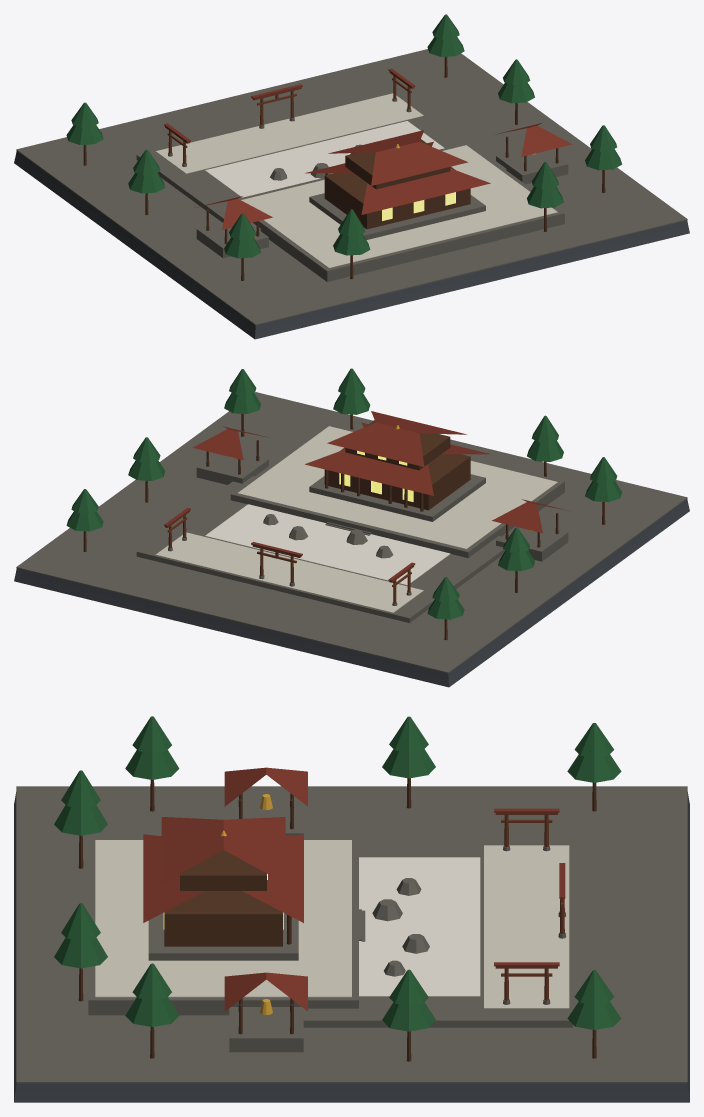
Rendered from lm_28_chua_linh_quy_phap_an.glb.
The picture shows the model from 3 angles, top to bottom: view 1: azimuth 30°, elevation 25°; view 2: azimuth 150°, elevation 25°; view 3: azimuth 270°, elevation 25°; orthographic projection. The views are drawn at different scales.
Visible parts, largest first — view 1: Foundation_Plinth_Trim, LinhQuy_Cloud_Deck_Paving, LinhQuy_Stone_Terraces_And_Steps, Foundation_Skirt, LinhQuy_Mountain_Pine_Forest, LinhQuy_Zen_White_Pebble_Garden, QuanChieuDuong_Teak_Columns_And_Walls, QuanChieuDuong_Upper_Curved_Roof, QuanChieuDuong_Lower_Curved_Roof, LinhQuy_Three_Torii_Heaven_Gates, LinhQuy_Bell_Drum_Pavilion_Roof_E, LinhQuy_Bell_Drum_Pavilion_Roof_W; view 2: Foundation_Plinth_Trim, LinhQuy_Cloud_Deck_Paving, LinhQuy_Stone_Terraces_And_Steps, Foundation_Skirt, LinhQuy_Mountain_Pine_Forest, LinhQuy_Zen_White_Pebble_Garden, QuanChieuDuong_Teak_Columns_And_Walls, QuanChieuDuong_Upper_Curved_Roof, QuanChieuDuong_Lower_Curved_Roof, LinhQuy_Three_Torii_Heaven_Gates, LinhQuy_Bell_Drum_Pavilion_Roof_W, LinhQuy_Bell_Drum_Pavilion_Roof_E; view 3: Foundation_Plinth_Trim, LinhQuy_Cloud_Deck_Paving, LinhQuy_Stone_Terraces_And_Steps, LinhQuy_Mountain_Pine_Forest, Foundation_Skirt, LinhQuy_Zen_White_Pebble_Garden, QuanChieuDuong_Teak_Columns_And_Walls, QuanChieuDuong_Upper_Curved_Roof, QuanChieuDuong_Lower_Curved_Roof, LinhQuy_Bell_Drum_Pavilion_Roof_E, LinhQuy_Bell_Drum_Pavilion_Roof_W, LinhQuy_Three_Torii_Heaven_Gates (+1 smaller).
Part boxes in pixels (box(x1,y1,x2,y2)): Foundation_Plinth_Trim: box(16, 49, 687, 325); LinhQuy_Cloud_Deck_Paving: box(155, 93, 557, 268); LinhQuy_Stone_Terraces_And_Steps: box(136, 89, 568, 281); Foundation_Skirt: box(14, 151, 689, 339); LinhQuy_Mountain_Pine_Forest: box(66, 14, 622, 258); LinhQuy_Zen_White_Pebble_Garden: box(205, 121, 444, 197); QuanChieuDuong_Teak_Columns_And_Walls: box(83, 56, 605, 280); QuanChieuDuong_Upper_Curved_Roof: box(328, 130, 467, 185); QuanChieuDuong_Lower_Curved_Roof: box(305, 141, 490, 214); LinhQuy_Three_Torii_Heaven_Gates: box(165, 71, 414, 163); LinhQuy_Bell_Drum_Pavilion_Roof_E: box(496, 123, 572, 156); LinhQuy_Bell_Drum_Pavilion_Roof_W: box(194, 196, 272, 229); Foundation_Plinth_Trim: box(16, 392, 687, 673); LinhQuy_Cloud_Deck_Paving: box(155, 426, 557, 612); LinhQuy_Stone_Terraces_And_Steps: box(136, 423, 568, 622); Foundation_Skirt: box(14, 499, 689, 687); LinhQuy_Mountain_Pine_Forest: box(66, 368, 622, 619); LinhQuy_Zen_White_Pebble_Garden: box(205, 504, 450, 585); QuanChieuDuong_Teak_Columns_And_Walls: box(83, 413, 605, 640); QuanChieuDuong_Upper_Curved_Roof: box(327, 411, 467, 466); QuanChieuDuong_Lower_Curved_Roof: box(305, 422, 490, 495); LinhQuy_Three_Torii_Heaven_Gates: box(165, 510, 414, 603); LinhQuy_Bell_Drum_Pavilion_Roof_W: box(492, 499, 570, 533); LinhQuy_Bell_Drum_Pavilion_Roof_E: box(192, 426, 268, 460); Foundation_Plinth_Trim: box(16, 786, 687, 1083); LinhQuy_Cloud_Deck_Paving: box(95, 840, 569, 1008); LinhQuy_Stone_Terraces_And_Steps: box(88, 802, 572, 1052); LinhQuy_Mountain_Pine_Forest: box(54, 716, 621, 1031); Foundation_Skirt: box(14, 792, 689, 1102); LinhQuy_Zen_White_Pebble_Garden: box(359, 857, 480, 996); QuanChieuDuong_Teak_Columns_And_Walls: box(78, 778, 596, 1061); QuanChieuDuong_Upper_Curved_Roof: box(161, 817, 285, 883); QuanChieuDuong_Lower_Curved_Roof: box(143, 834, 303, 922); LinhQuy_Bell_Drum_Pavilion_Roof_E: box(224, 972, 307, 1011); LinhQuy_Bell_Drum_Pavilion_Roof_W: box(224, 767, 307, 806); LinhQuy_Three_Torii_Heaven_Gates: box(495, 812, 564, 1000).
Bounding box in the file's own units: 98.84 × 19 × 94.8.
